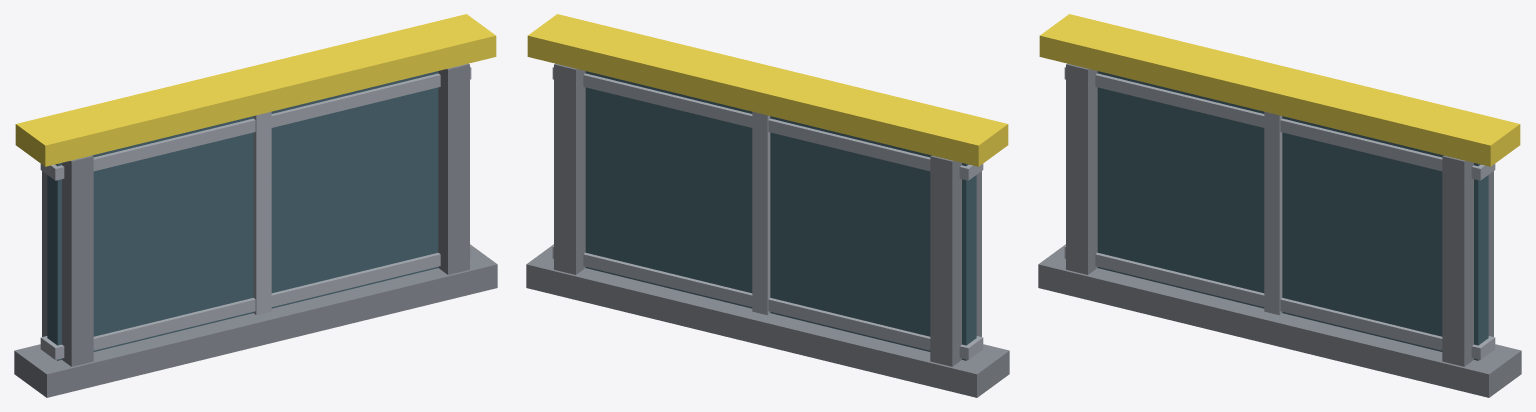
Rendered from wall_glass.glb.
3 views of the same model, side by side, from view 1: azimuth 30°, elevation 25°; view 2: azimuth 150°, elevation 25°; view 3: azimuth 330°, elevation 25° (orthographic).
Parts seen in each view (by area): view 1: wall_glass; view 2: wall_glass; view 3: wall_glass.
Part boxes in pixels (box(x1,y1,x2,y2)): wall_glass: box(14, 14, 497, 397); wall_glass: box(526, 14, 1009, 397); wall_glass: box(1038, 14, 1521, 397).
Size of the model in its own units: 2 by 1.06 by 0.25.
